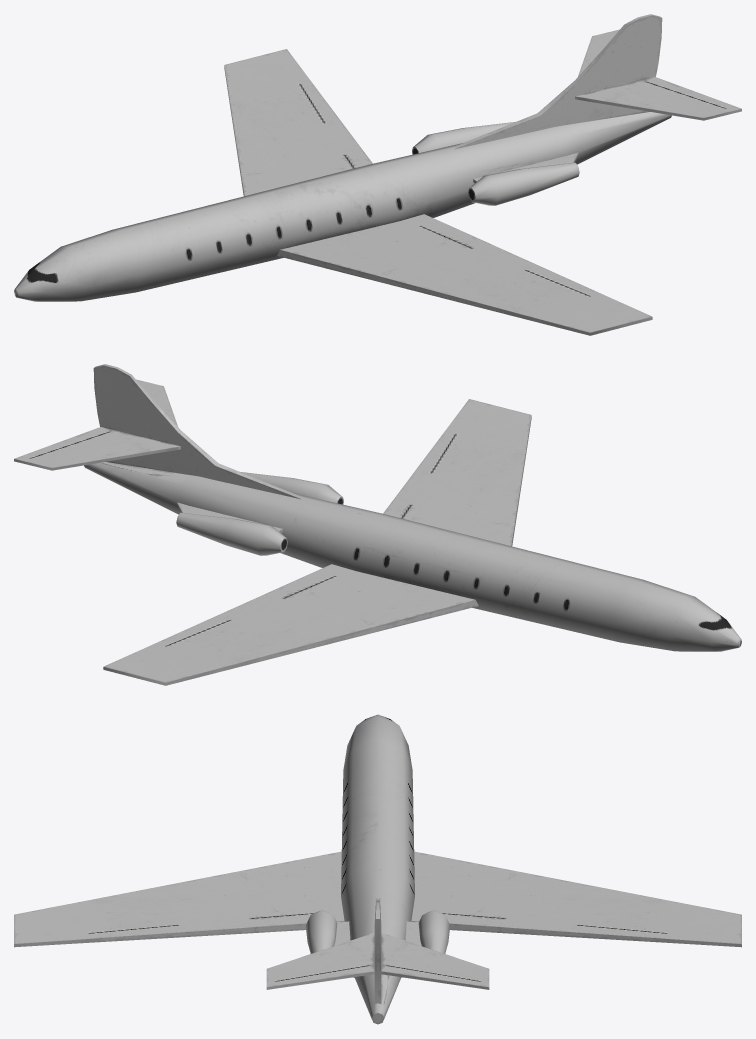
File: MB_Passenger_Aircraft.fbx
The picture shows the model from 3 angles, top to bottom: view 1: azimuth 30°, elevation 25°; view 2: azimuth 150°, elevation 25°; view 3: azimuth 270°, elevation 25°; orthographic projection.
Parts seen in each view (by area): view 1: MB_Passenger_Aircraft; view 2: MB_Passenger_Aircraft; view 3: MB_Passenger_Aircraft.
Boxes of the visible parts, left/top/right/bottom form: MB_Passenger_Aircraft: left=14, top=14, right=741, bottom=335; MB_Passenger_Aircraft: left=14, top=364, right=741, bottom=685; MB_Passenger_Aircraft: left=14, top=714, right=741, bottom=1024.
Size of the model in its own units: 4153 by 897 by 3931.
